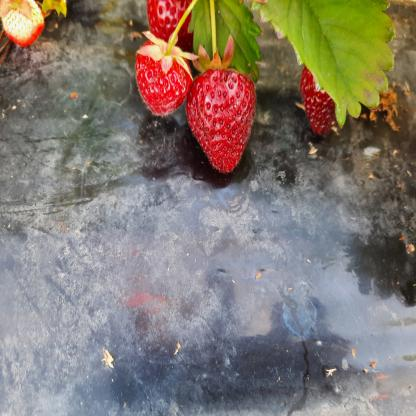ripe: (189, 72, 255, 172), (293, 54, 343, 132), (133, 41, 186, 108), (149, 0, 194, 43)
unripe: (4, 0, 44, 48)
